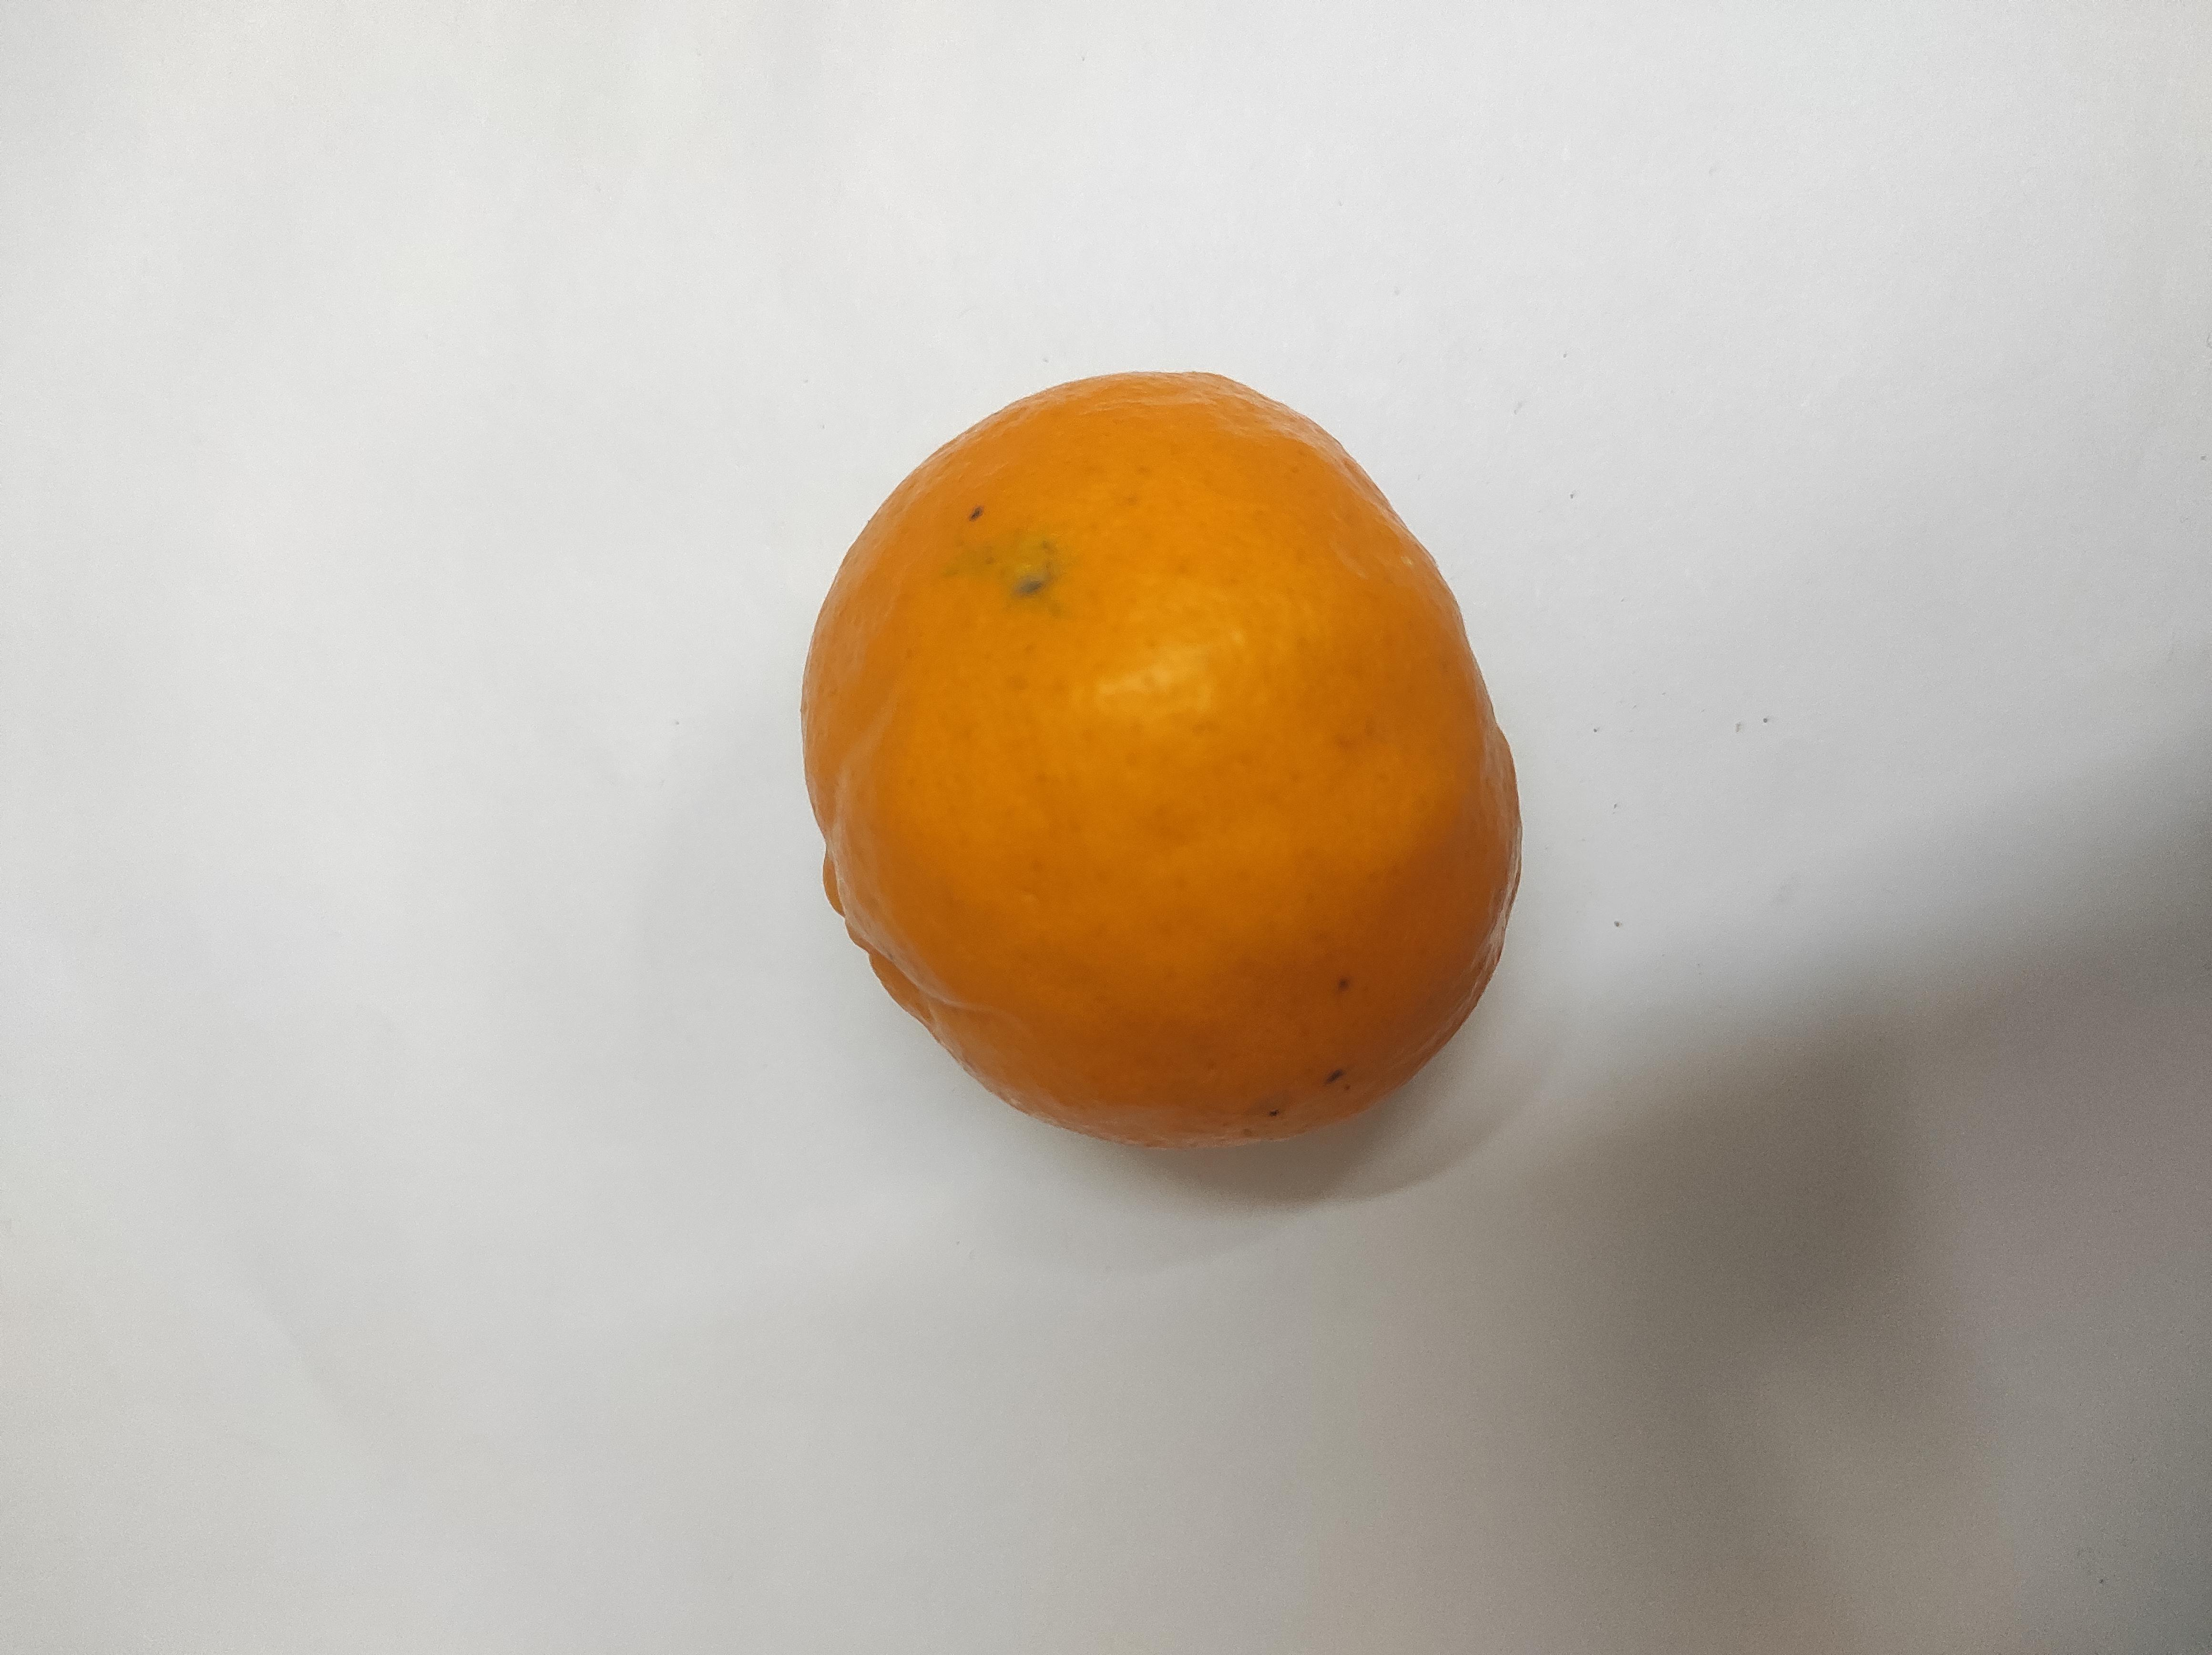Ripe: (791, 367, 1530, 1120)
